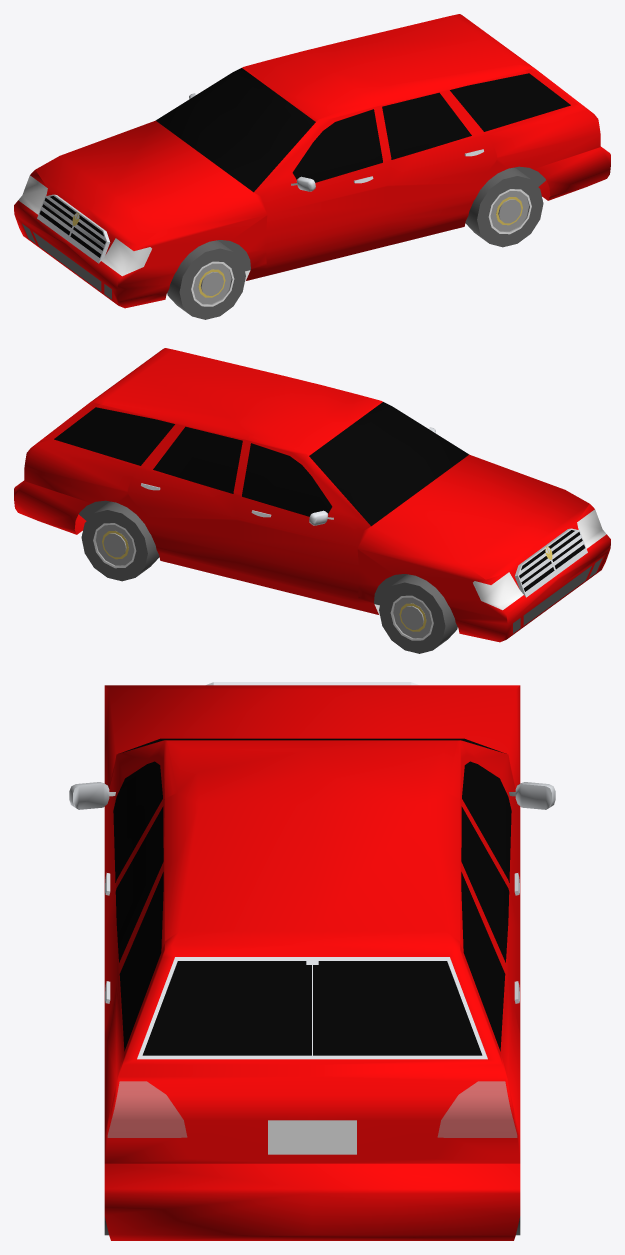
3 views of the same model, one above another, from view 1: azimuth 30°, elevation 25°; view 2: azimuth 150°, elevation 25°; view 3: azimuth 270°, elevation 25° (orthographic). The views are drawn at different scales.
Visible parts, largest first — view 1: Mesh30_station_wagon_half1_Silver_station_wagon1_Component__; view 2: Mesh30_station_wagon_half1_Silver_station_wagon1_Component__; view 3: Mesh30_station_wagon_half1_Silver_station_wagon1_Component__.
Boxes of the visible parts, x1=… form: Mesh30_station_wagon_half1_Silver_station_wagon1_Component__: x1=14, y1=14, x2=610, y2=319; Mesh30_station_wagon_half1_Silver_station_wagon1_Component__: x1=14, y1=348, x2=610, y2=653; Mesh30_station_wagon_half1_Silver_station_wagon1_Component__: x1=69, y1=682, x2=555, y2=1240.
Bounding box in the file's own units: 4.8 × 2.05 × 1.55.
